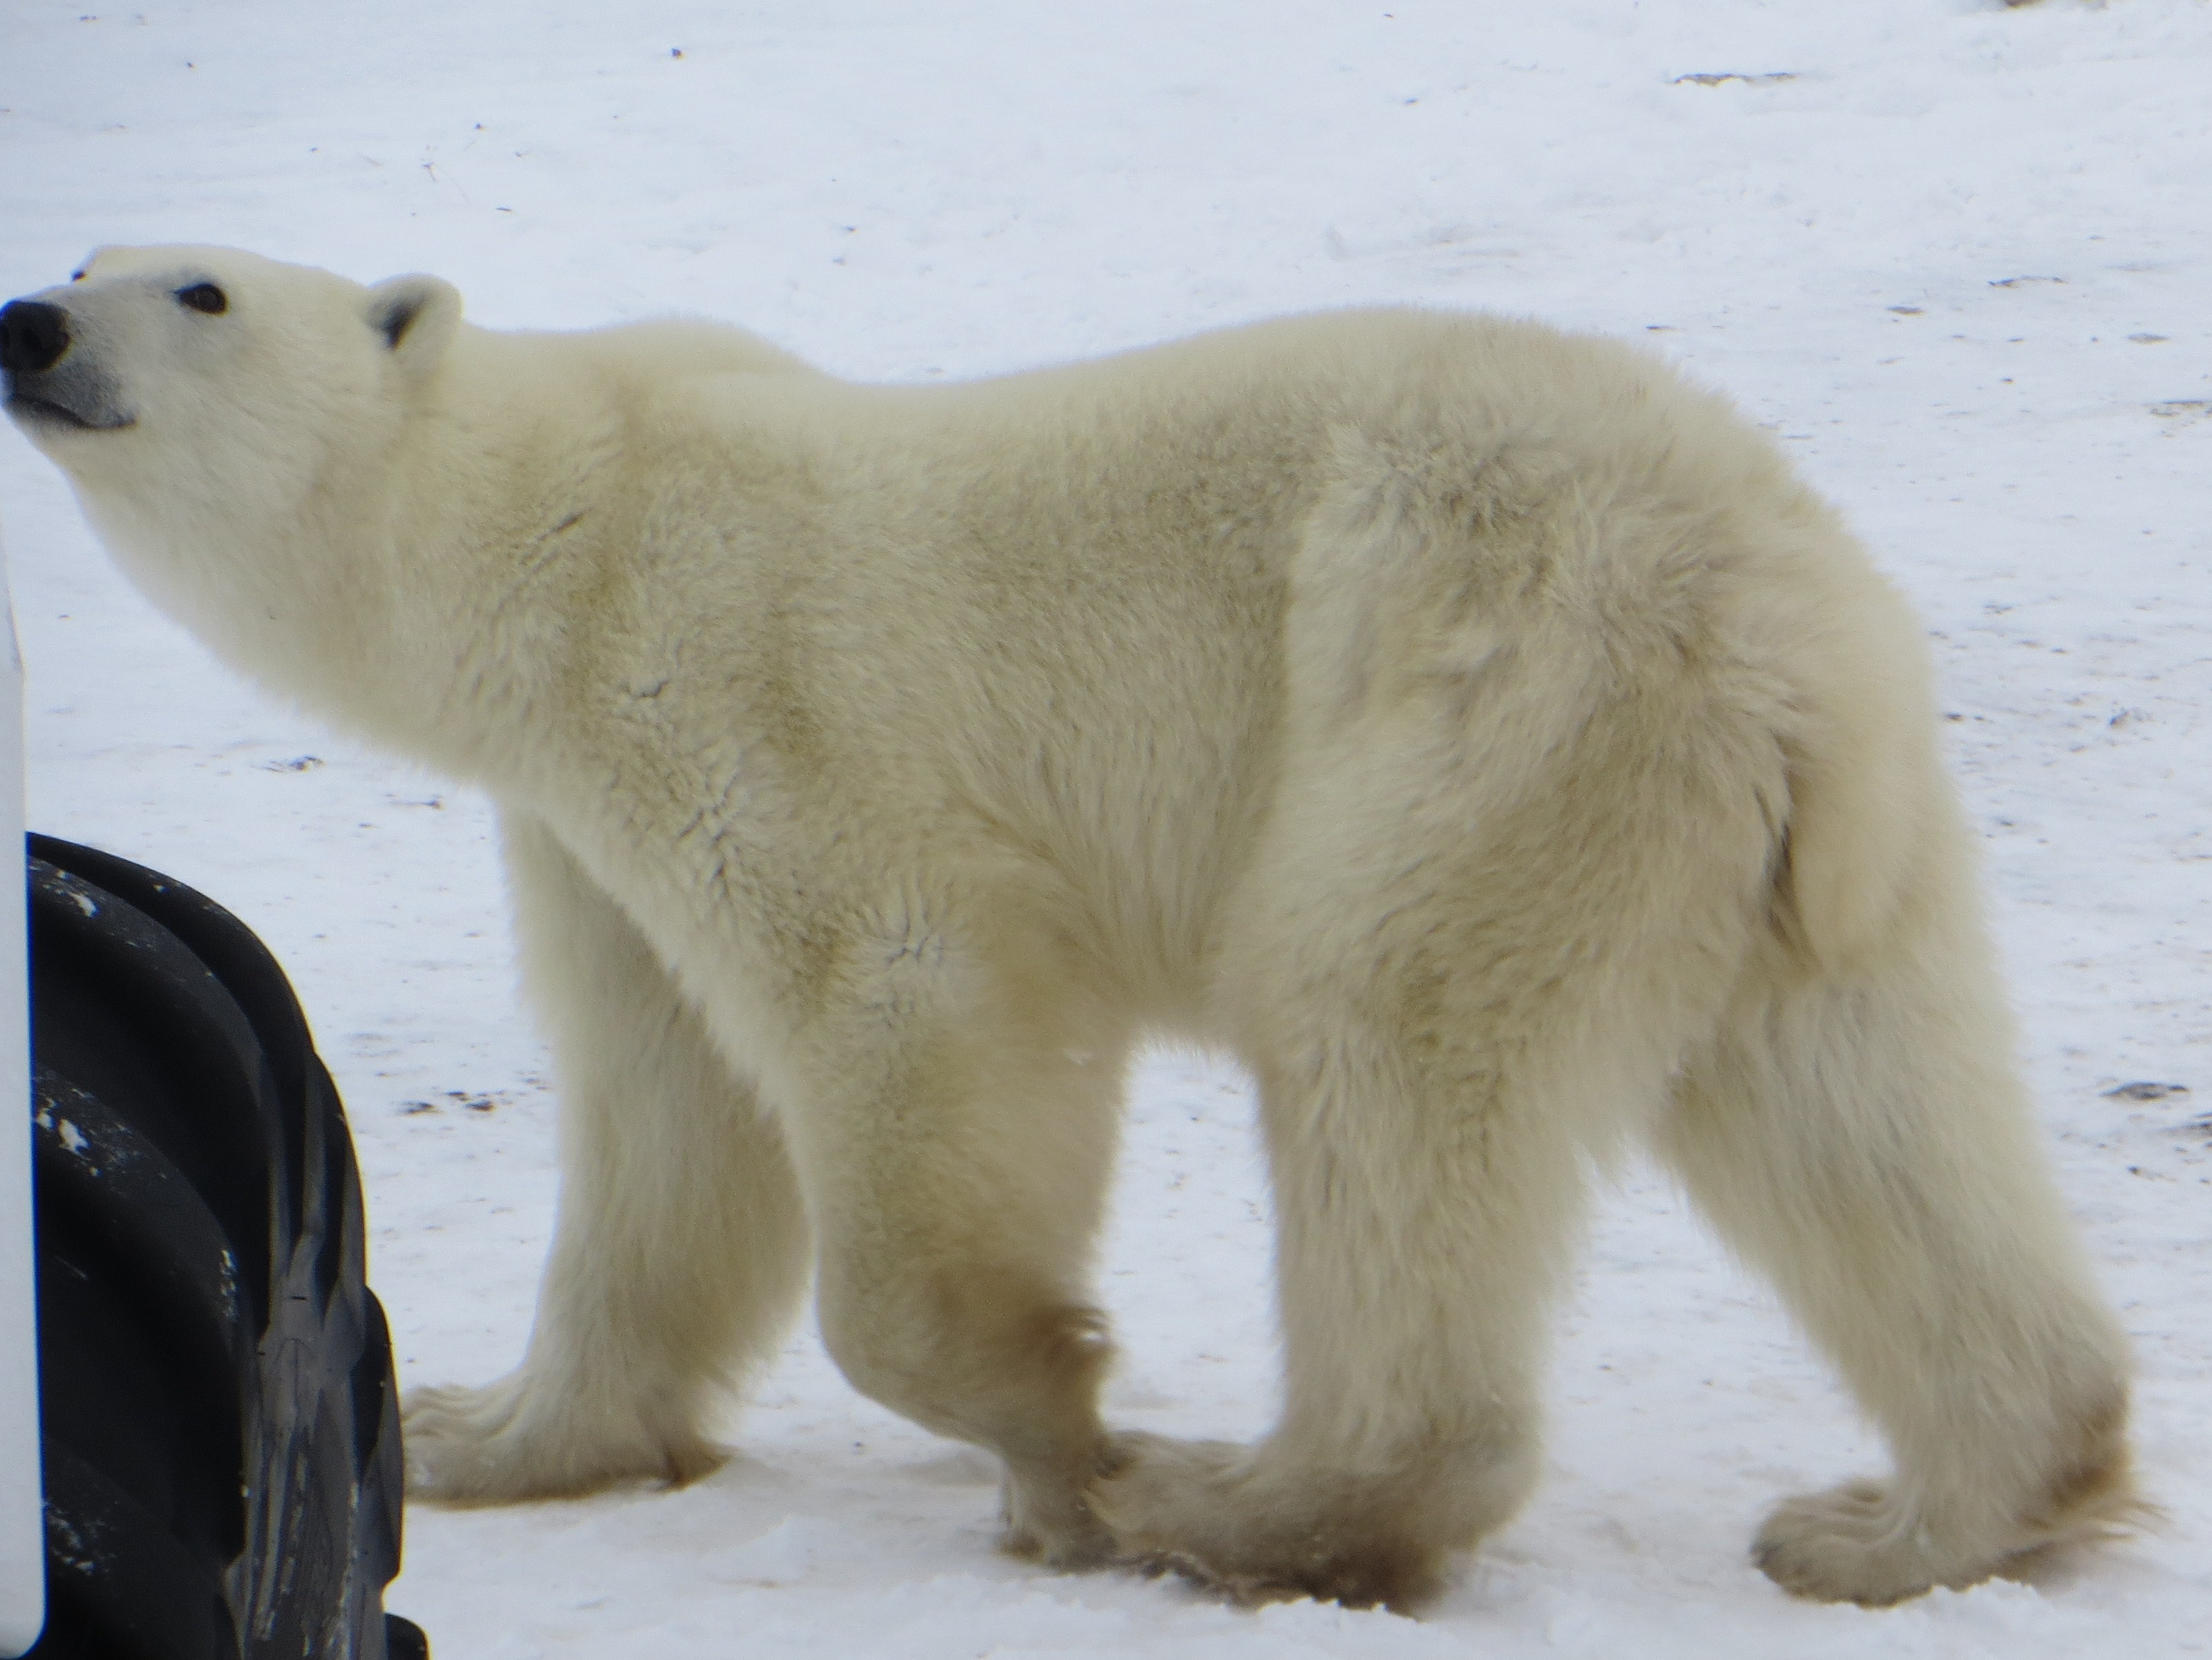Polar Bear: (26, 173, 2212, 1554)
